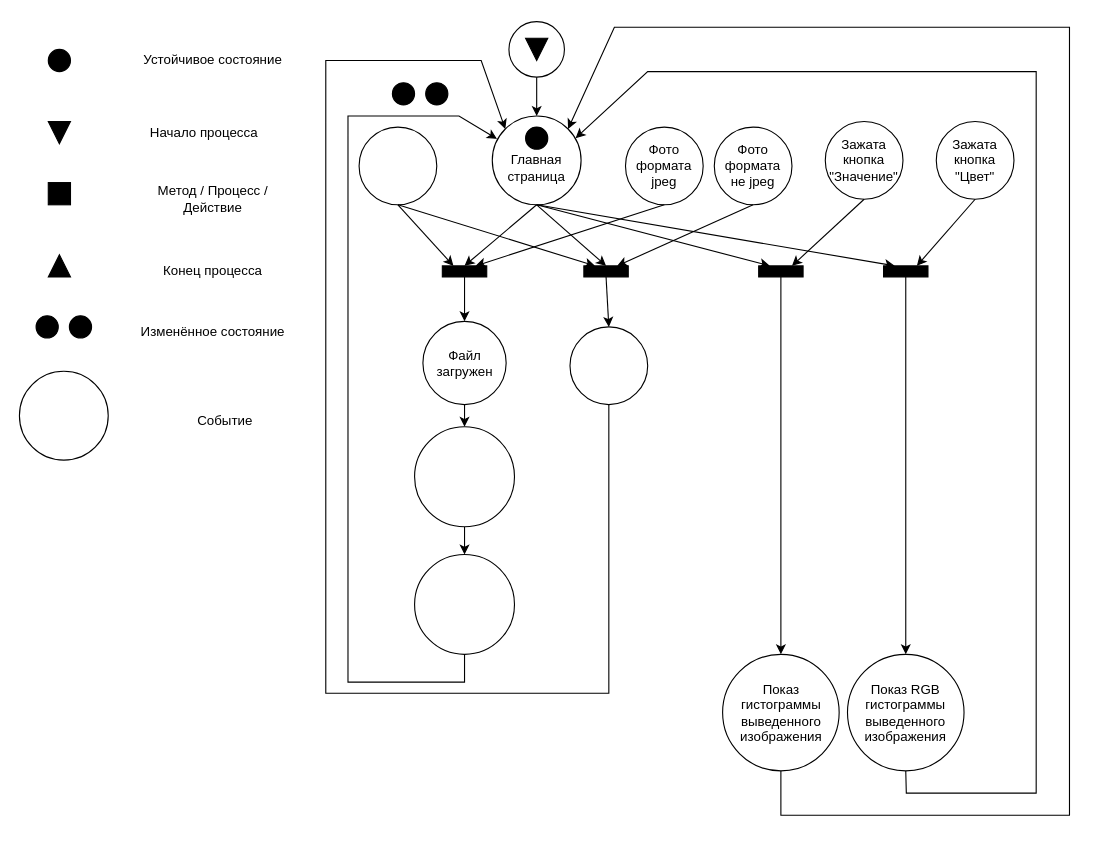
The diagram is 1098 pixels wide and 844 high, and some of its shapes have lost their labels. The shapes that lost their labels are listed below. From the top down, each one's centre as x and y in pixels, then its label:
point 397,165: Нажали кнопку выбрать файл
point 608,365: Ошибка файл не jpeg
point 463,476: Файл инверсирован
point 463,603: Файл на главном экране
